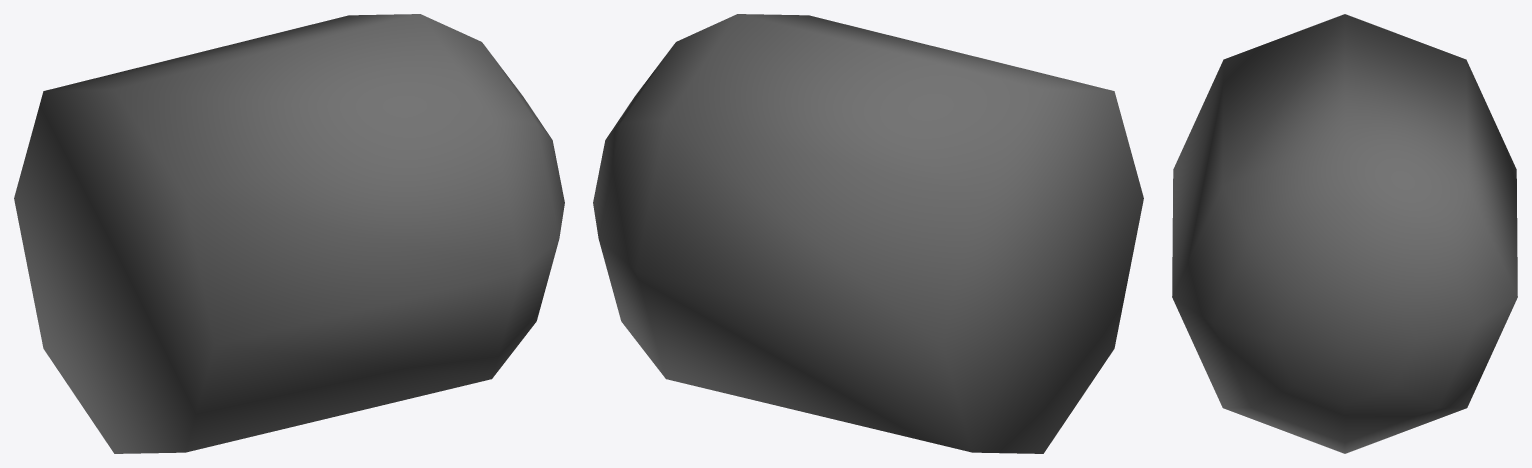
File: minibullet.fbx
3 views of the same model, side by side, from view 1: azimuth 30°, elevation 25°; view 2: azimuth 150°, elevation 25°; view 3: azimuth 270°, elevation 25° (orthographic). The views are drawn at different scales.
Visible parts, largest first — view 1: Sphere; view 2: Sphere; view 3: Sphere.
Boxes of the visible parts, x1,y1,x2,y2 form: Sphere: (14, 14, 564, 453); Sphere: (593, 14, 1143, 453); Sphere: (1172, 14, 1517, 453).
Bounding box in the file's own units: 2.44 × 2.01 × 2.01.
Materials: 1 (1 with a texture image).
